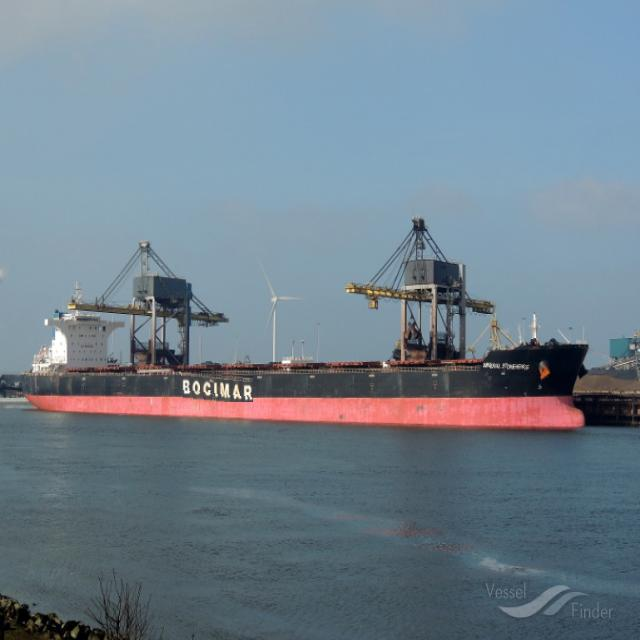OCR: (175, 369, 253, 402), (484, 352, 534, 376)
